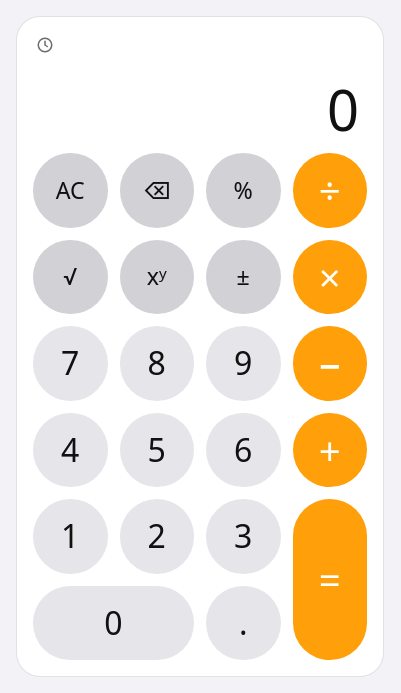
Test case: Calculator › shows the backend error for division by zero and recovers with AC
Click the button "1": (70, 536) [33,499,108,574]
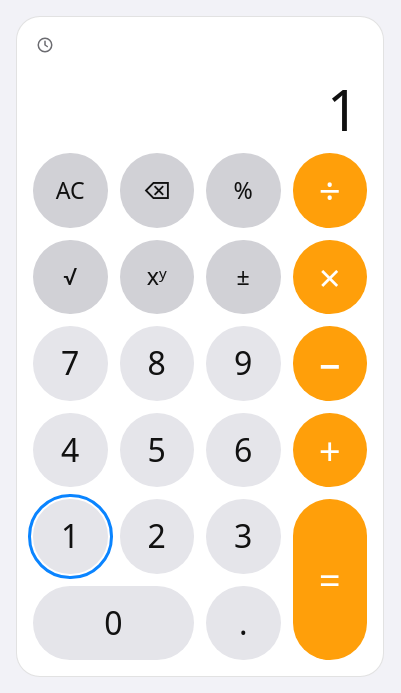
Click the button named "Divide": (330, 190) [292,153,367,228]
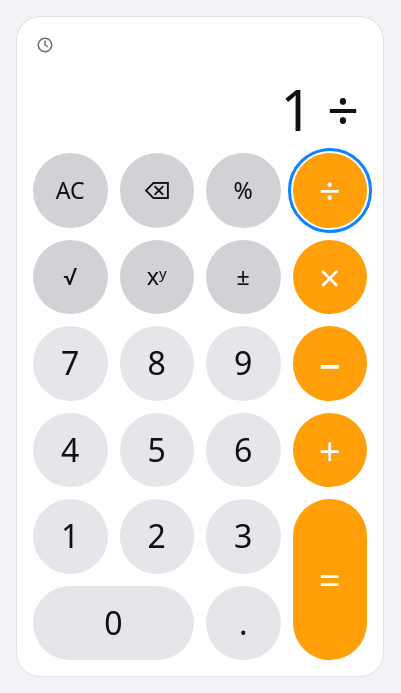
Click the button "0": (114, 623) [33,586,194,660]
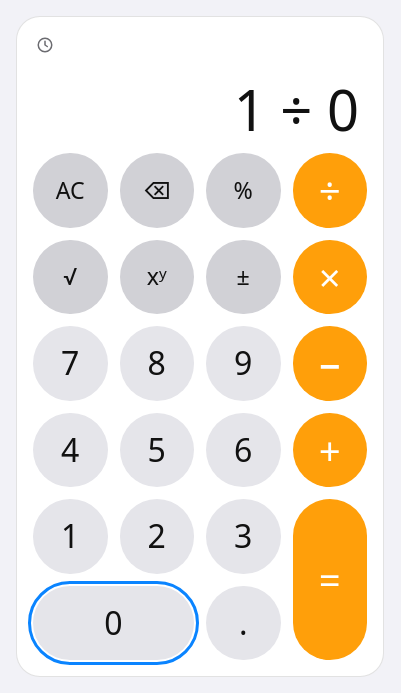
Click the button named "Equals": (330, 580) [292,499,367,660]
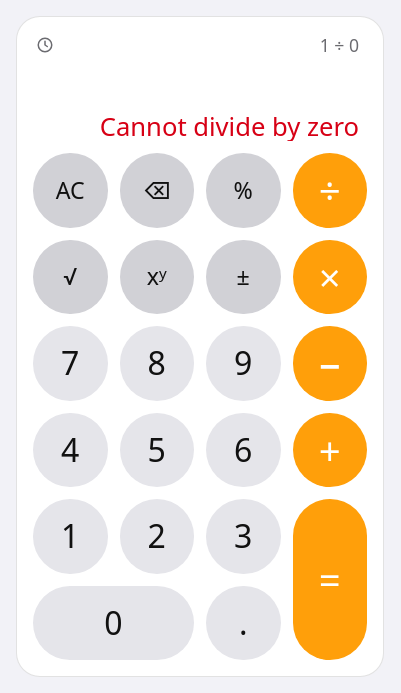
Now the message reads "Cannot divide by zero", box [100,109,359,144]
Click the button with aria-label "All clear": (70, 190) [33,153,108,228]
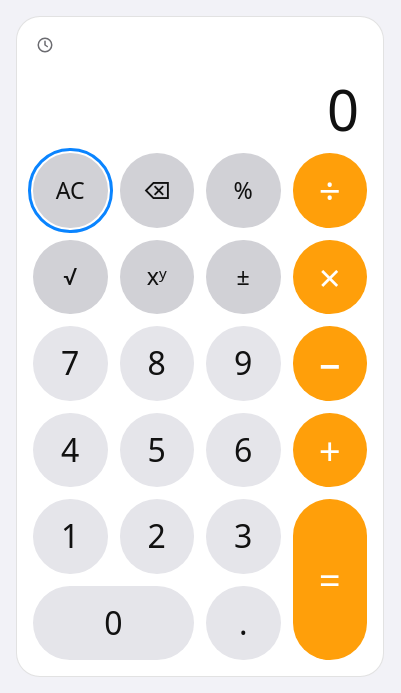
Now the message reads "0", box [327,71,359,147]
